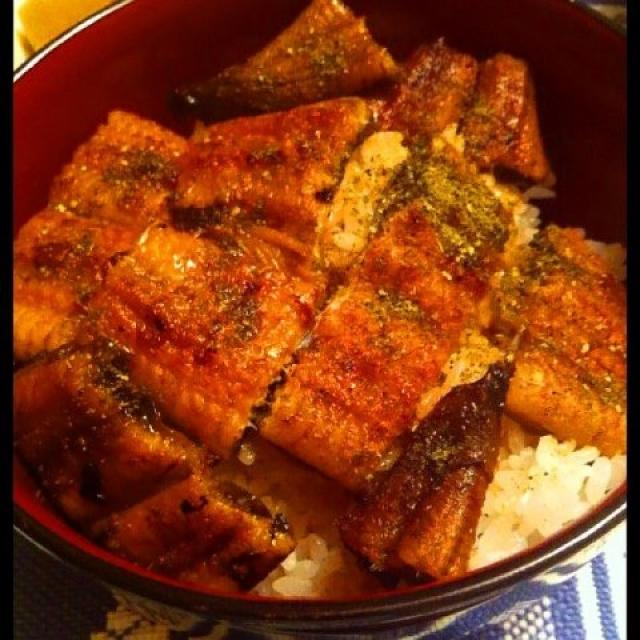熟制海鲜: (25, 19, 612, 618)
